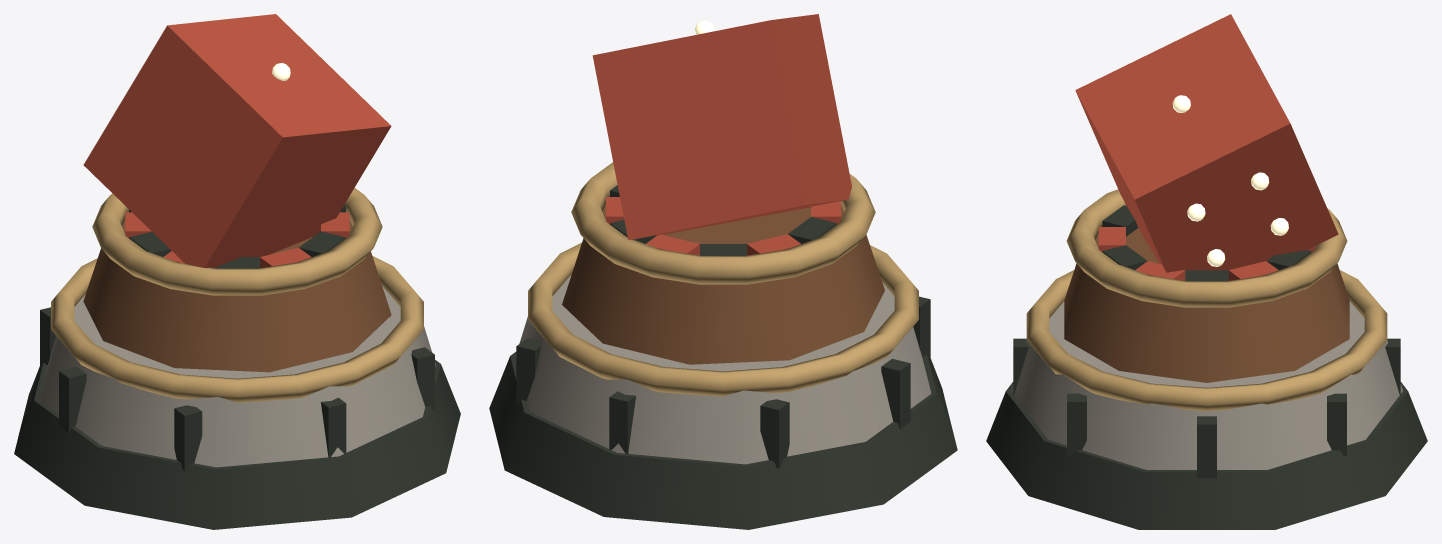
The model's file is tower_gamble_gambleHigh.glb.
The picture shows the model from 3 angles, left to right: view 1: azimuth 30°, elevation 25°; view 2: azimuth 150°, elevation 25°; view 3: azimuth 270°, elevation 25°; orthographic projection. The views are drawn at different scales.
Parts seen in each view (by area): view 1: die_25, foot_0, stone_1, table_11, rim_2, roulette_rim_12, mortar_6, mortar_7, mortar_5, mortar_4, mortar_8, pocket_18 (+3 smaller); view 2: die_25, foot_0, table_11, stone_1, rim_2, roulette_rim_12, mortar_8, mortar_7, mortar_9, mortar_10, mortar_6, pocket_22 (+3 smaller); view 3: die_25, foot_0, stone_1, table_11, rim_2, roulette_rim_12, mortar_3, mortar_4, mortar_10, pocket_18, pocket_19, pocket_15 (+5 smaller).
Boxes of the visible parts, bbox=[...] form: die_25: bbox=[83, 14, 391, 267]; foot_0: bbox=[14, 360, 460, 529]; stone_1: bbox=[39, 286, 435, 467]; table_11: bbox=[83, 219, 391, 372]; rim_2: bbox=[51, 256, 423, 402]; roulette_rim_12: bbox=[92, 188, 382, 295]; mortar_6: bbox=[174, 405, 202, 471]; mortar_7: bbox=[59, 366, 86, 433]; mortar_5: bbox=[321, 397, 346, 457]; mortar_4: bbox=[411, 347, 434, 410]; mortar_8: bbox=[40, 307, 56, 366]; pocket_18: bbox=[299, 231, 345, 256]; die_25: bbox=[592, 14, 851, 239]; foot_0: bbox=[489, 352, 957, 529]; table_11: bbox=[562, 204, 884, 364]; stone_1: bbox=[515, 274, 931, 464]; rim_2: bbox=[528, 242, 918, 396]; roulette_rim_12: bbox=[571, 162, 875, 284]; mortar_8: bbox=[760, 399, 789, 468]; mortar_7: bbox=[881, 358, 910, 428]; mortar_9: bbox=[609, 391, 635, 453]; mortar_10: bbox=[516, 338, 541, 404]; mortar_6: bbox=[913, 296, 930, 358]; pocket_22: bbox=[788, 217, 836, 243]; die_25: bbox=[1075, 14, 1338, 272]; foot_0: bbox=[986, 382, 1427, 529]; stone_1: bbox=[1011, 301, 1402, 469]; table_11: bbox=[1064, 228, 1349, 382]; rim_2: bbox=[1026, 270, 1387, 411]; roulette_rim_12: bbox=[1066, 189, 1347, 307]; mortar_3: bbox=[1197, 416, 1216, 478]; mortar_4: bbox=[1067, 393, 1086, 455]; mortar_10: bbox=[1327, 393, 1346, 455]; pocket_18: bbox=[1102, 245, 1147, 269]; pocket_19: bbox=[1098, 227, 1125, 251]; pocket_15: bbox=[1228, 261, 1278, 280].
Bounding box in the file's own units: 0.5326 × 0.5593 × 0.56.
